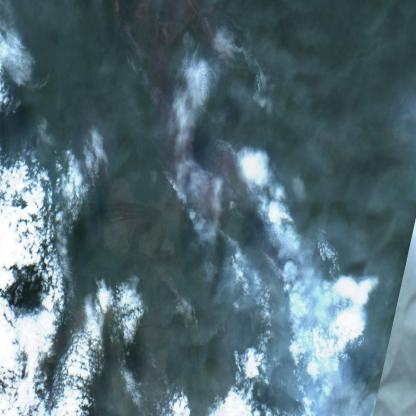fire: (146, 128, 294, 283)
